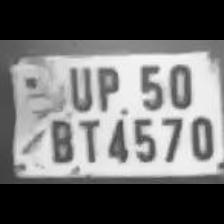0: (163, 58, 195, 108), (186, 111, 216, 161)
4: (102, 111, 131, 163)
5: (132, 62, 166, 110), (128, 111, 158, 163)
7: (156, 111, 183, 164)
B: (46, 114, 76, 166)
P: (90, 62, 124, 110)
T: (74, 112, 102, 162)
U: (65, 62, 95, 110)
